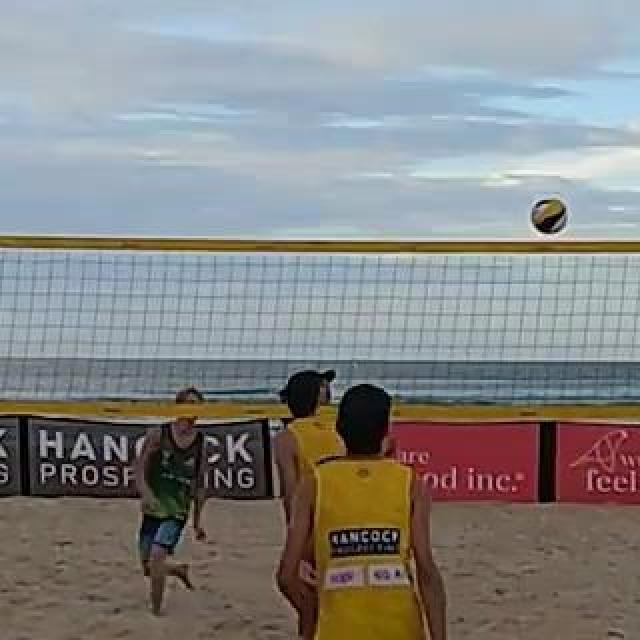volleyball: (530, 197, 566, 235)
